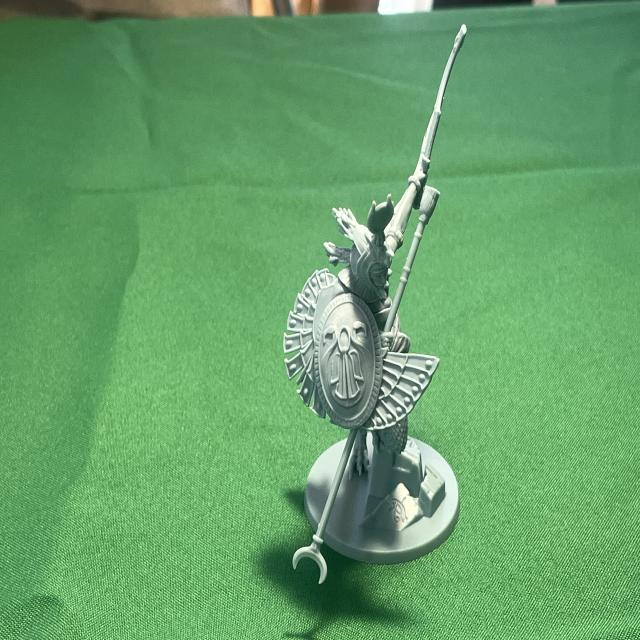isis: (267, 12, 490, 606)
